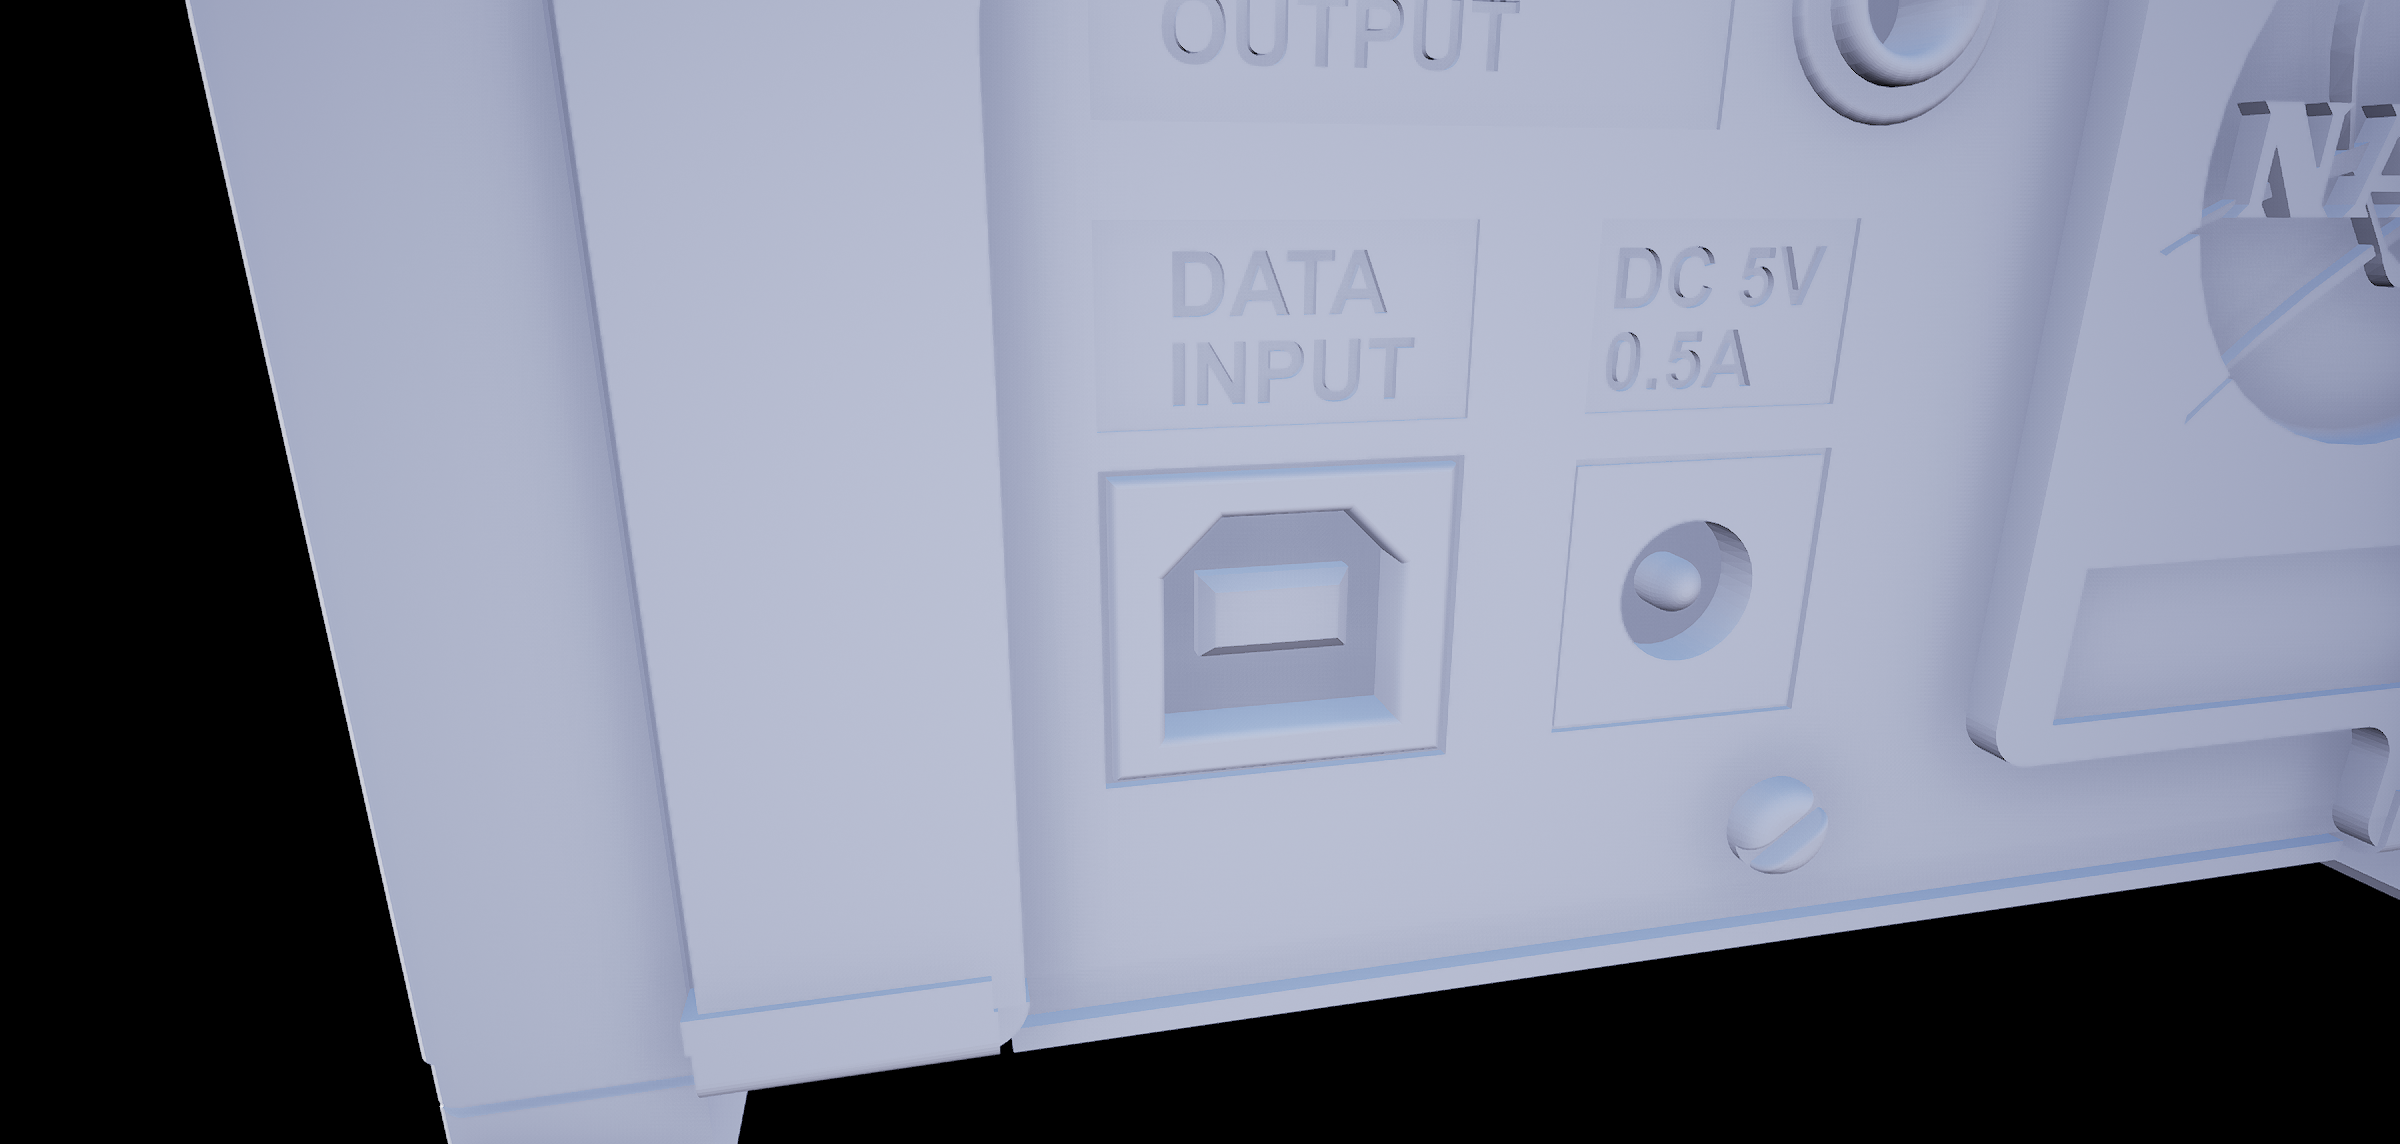aux: (1754, 2, 2010, 123)
dc: (1606, 512, 1776, 681)
usb: (1149, 499, 1413, 744)
